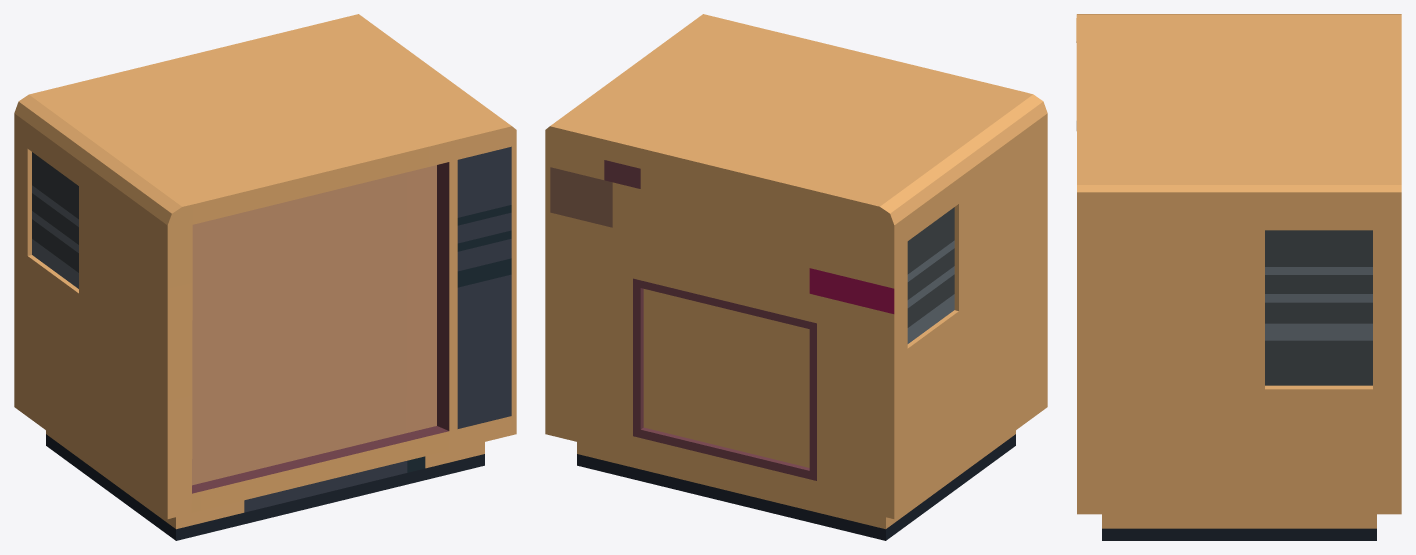
File: Prop_TV01.fbx
3 views of the same model, side by side, from view 1: azimuth 30°, elevation 25°; view 2: azimuth 150°, elevation 25°; view 3: azimuth 270°, elevation 25° (orthographic). The views are drawn at different scales.
Visible parts, largest first — view 1: Cube.400; view 2: Cube.400; view 3: Cube.400.
Boxes of the visible parts, bbox=[...] form: Cube.400: bbox=[14, 14, 516, 540]; Cube.400: bbox=[545, 14, 1047, 540]; Cube.400: bbox=[1076, 14, 1401, 540].
Bounding box in the file's own units: 55.14 × 51.95 × 42.05.
